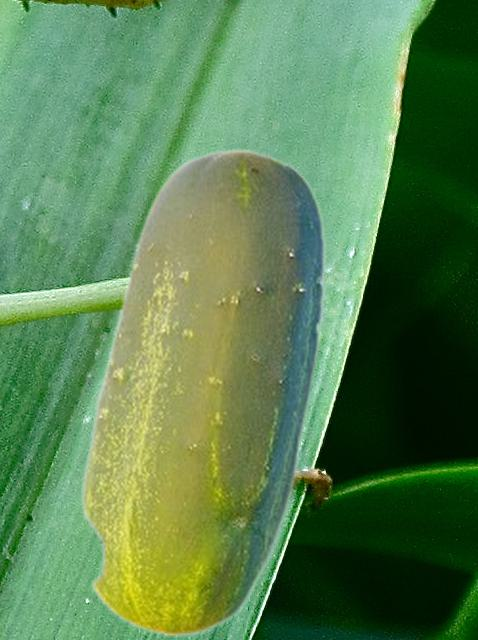cucumber: (79, 147, 324, 637)
